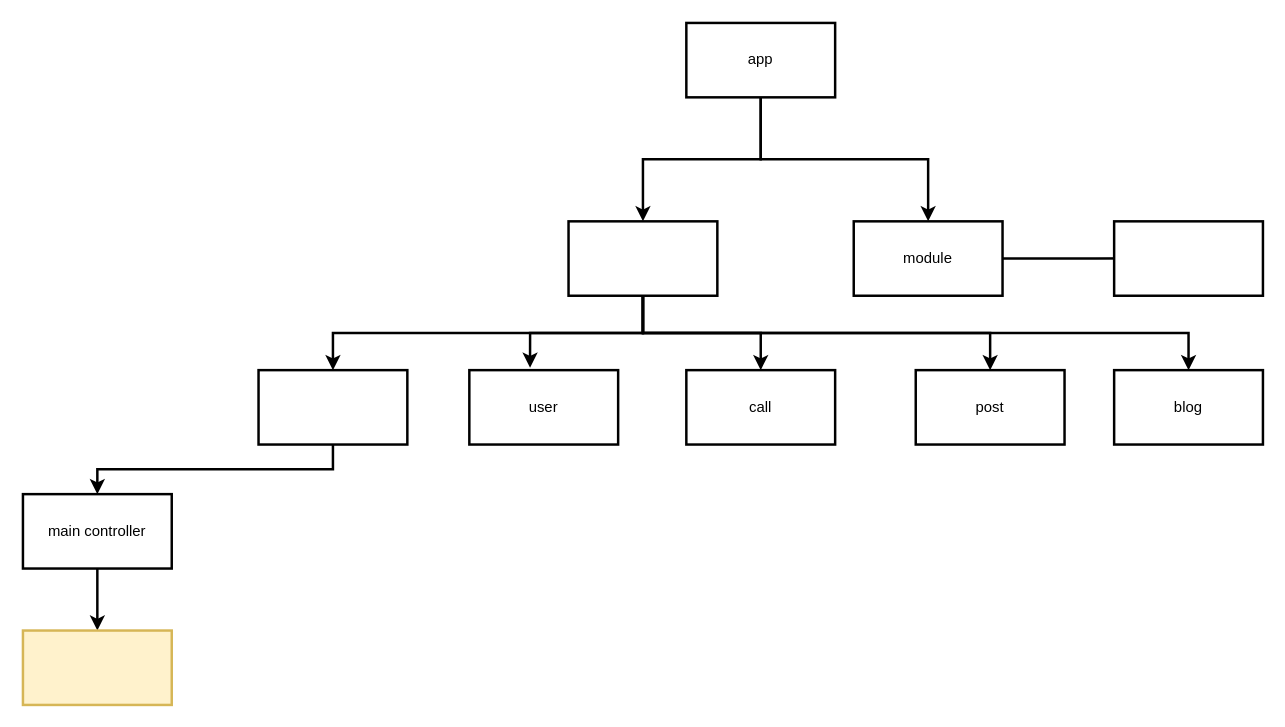
Image size: 1285x727. Some labels were removed from this diagram. The centre of each missing label's shape, as x and y in pixels:
"index" belongs at point 332,406.
"index.ejs" belongs at point 96,667.
"MongoDB" belongs at point 1188,257.
"routes" belongs at point 642,257.
